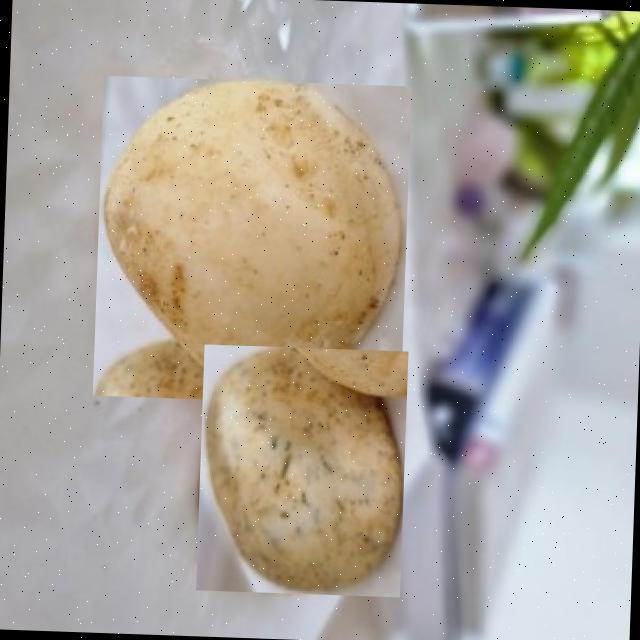Potato: (91, 75, 410, 406), (195, 344, 406, 597)
